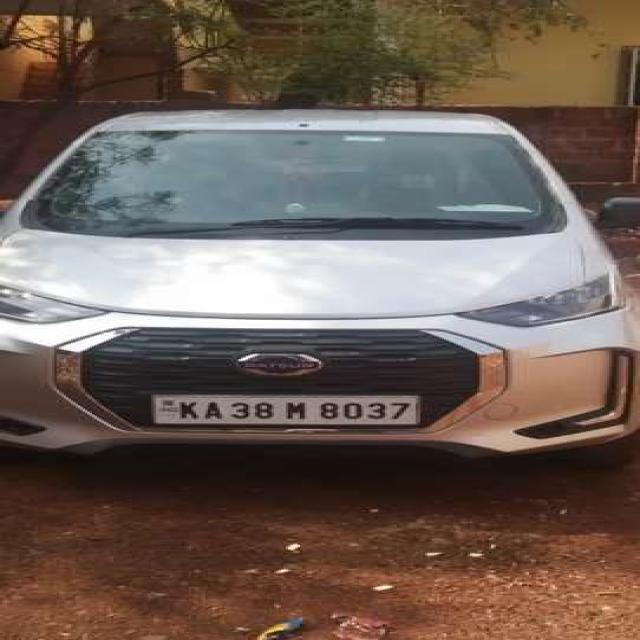plate: (146, 392, 421, 429)
